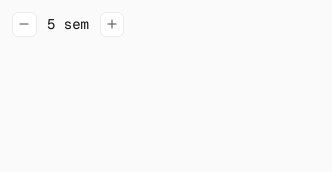
NumberStepper › buttons step the value
Click the button named "Aumentar" at (112, 24), box left=100, top=12, right=124, bottom=36
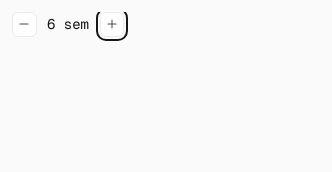
Now the number field has attribute aria-valuenow="6", box left=47, top=15, right=89, bottom=33
Click the button named "Disminuir" at (24, 24), box left=12, top=12, right=36, bottom=36
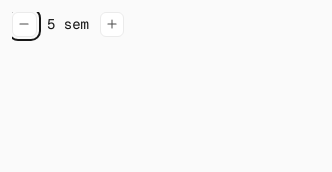
Click the button named "Disminuir" at (24, 24), box left=12, top=12, right=36, bottom=36
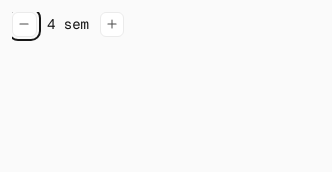
Now the number field has attribute aria-valuenow="4", box left=47, top=15, right=89, bottom=33
